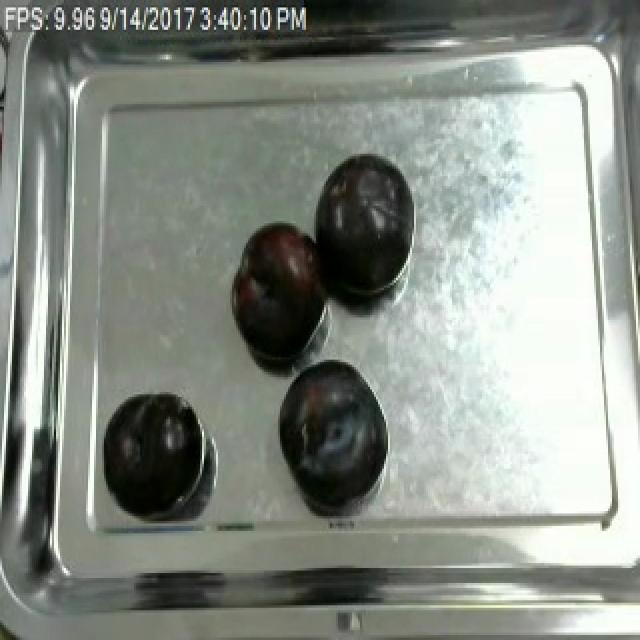Fruit: (272, 357, 388, 509), (310, 151, 416, 305), (226, 218, 330, 370), (102, 387, 200, 518)
